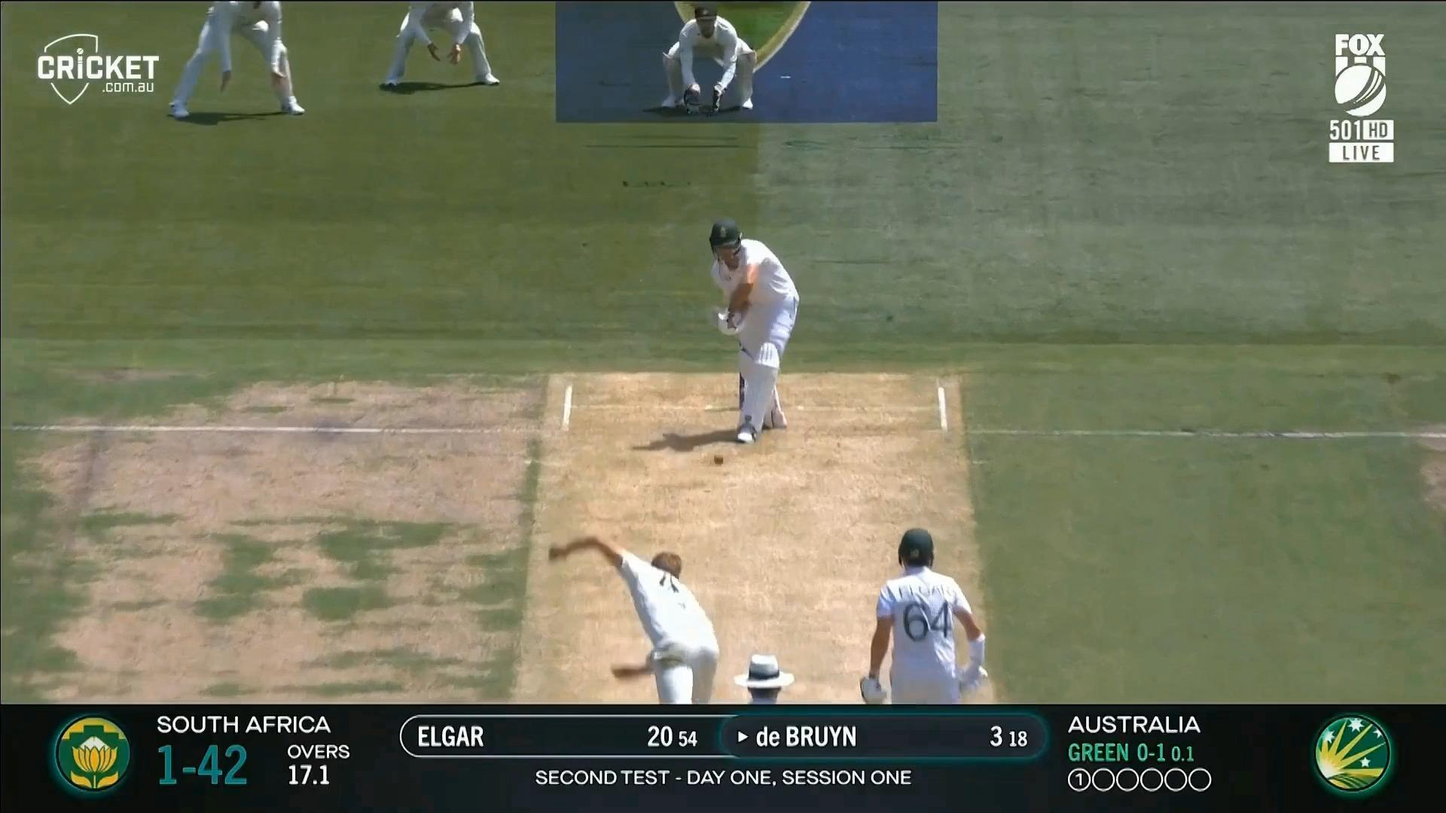BM 1: (702, 218, 801, 445)
BO: (549, 535, 720, 704)
